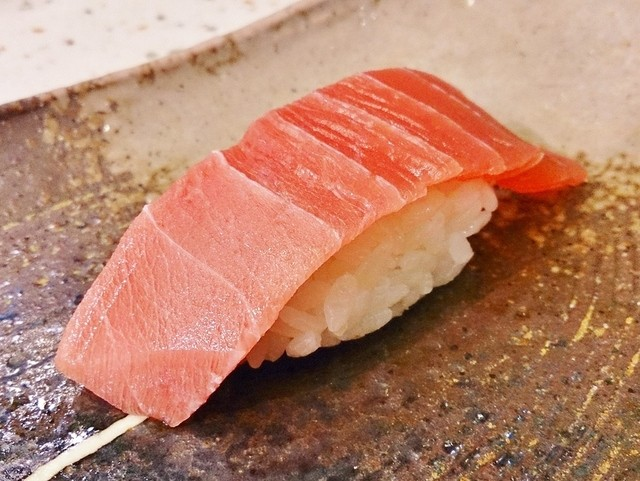medium_fatty_tuna: (49, 64, 586, 428)
